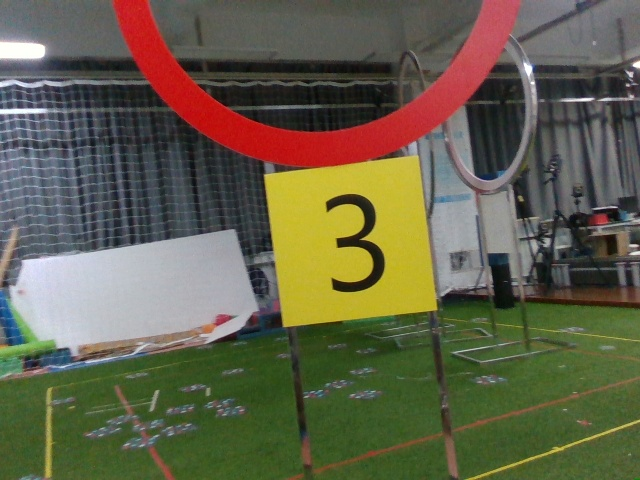target: (274, 174, 423, 318)
